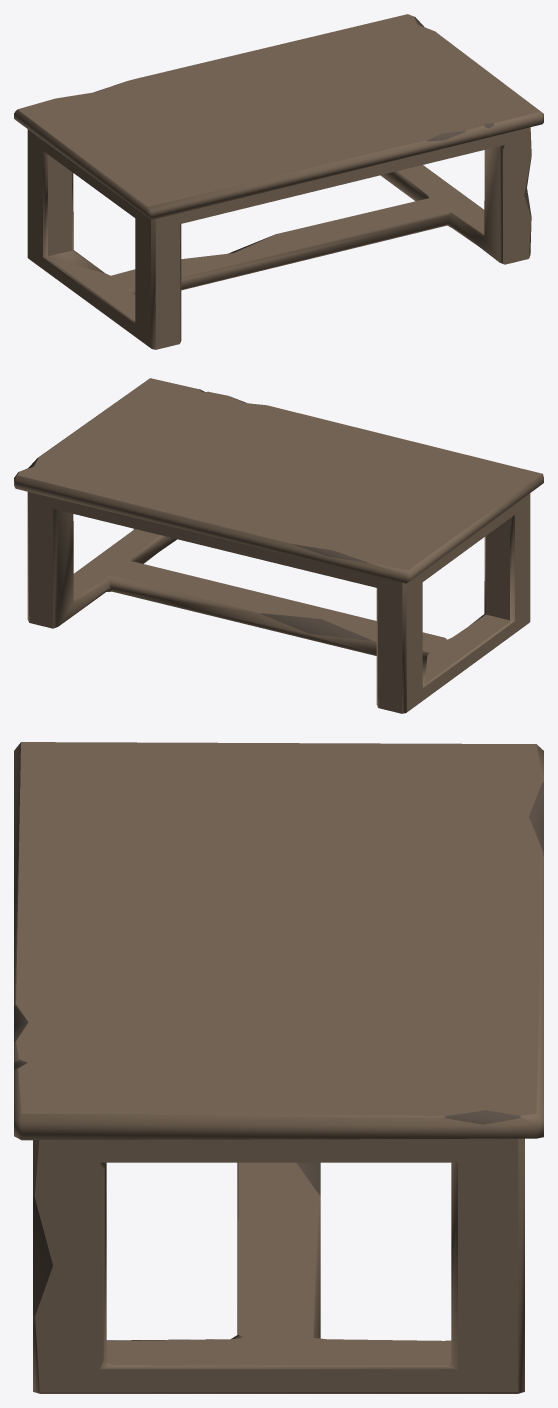
File: CoffeeTable.FBX
3 views of the same model, one above another, from view 1: azimuth 30°, elevation 25°; view 2: azimuth 150°, elevation 25°; view 3: azimuth 270°, elevation 25° (orthographic). The views are drawn at different scales.
Parts seen in each view (by area): view 1: CoffeeTable_01; view 2: CoffeeTable_01; view 3: CoffeeTable_01.
Part boxes in pixels (x1=…): CoffeeTable_01: x1=14, y1=14, x2=543, y2=349; CoffeeTable_01: x1=14, y1=378, x2=543, y2=713; CoffeeTable_01: x1=14, y1=742, x2=543, y2=1393.
Size of the model in its own units: 15.99 by 5.68 by 9.53.
